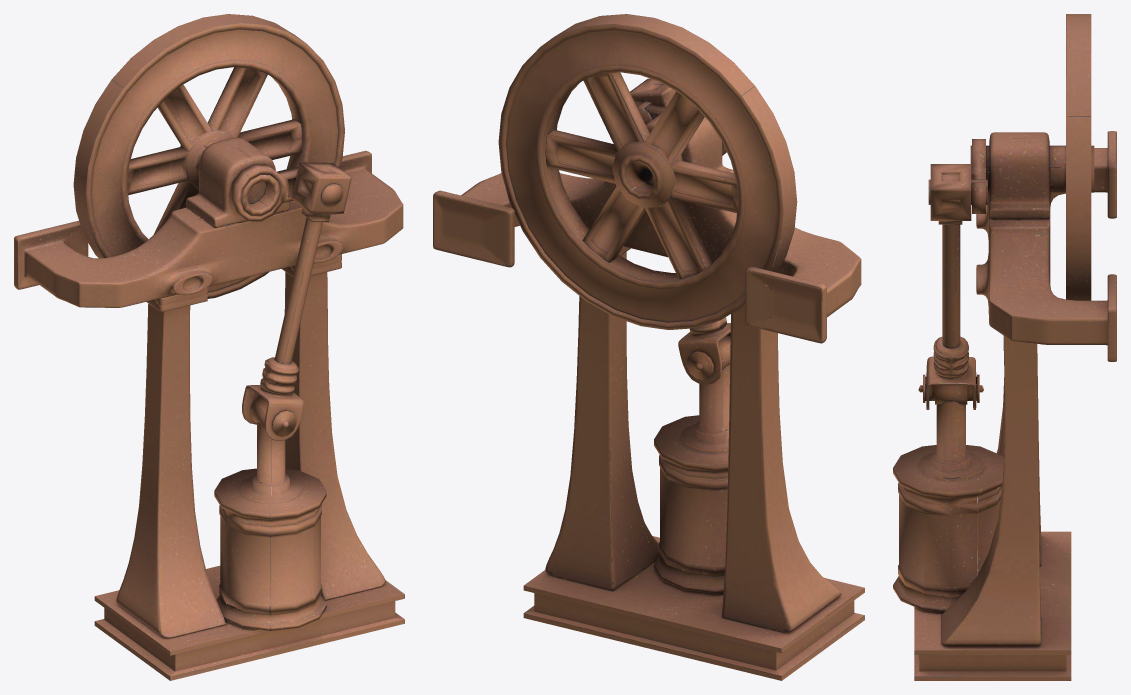
3 views of the same model, side by side, from view 1: azimuth 30°, elevation 25°; view 2: azimuth 150°, elevation 25°; view 3: azimuth 270°, elevation 25° (orthographic). The views are drawn at different scales.
Parts seen in each view (by area): view 1: Cylinder; view 2: Cylinder; view 3: Cylinder.
Boxes of the visible parts, bbox=[...] form: Cylinder: bbox=[14, 14, 404, 680]; Cylinder: bbox=[433, 14, 864, 680]; Cylinder: bbox=[893, 14, 1116, 680].
Bounding box in the file's own units: 2.19 × 3.38 × 1.15.
Materials: 1 (1 with a texture image).
